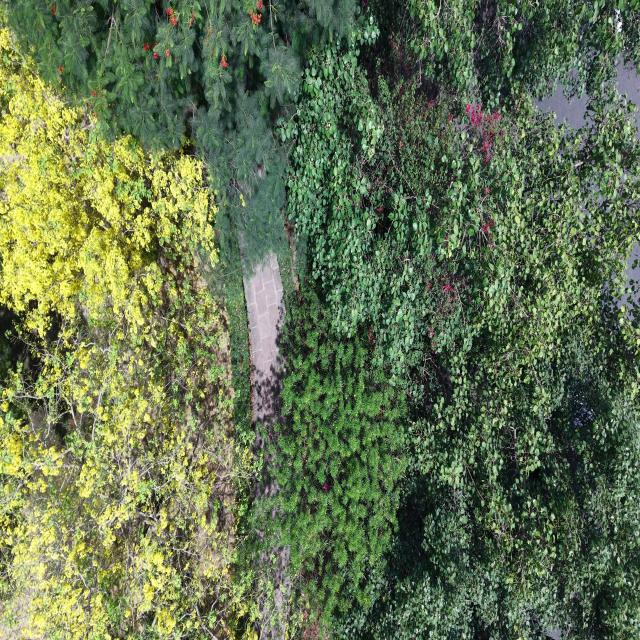DRY_AREA: (244, 254, 284, 426), (538, 85, 587, 129)
PATHWAYS: (244, 254, 284, 447), (244, 254, 284, 424)
VEGETATION_TREE: (0, 0, 639, 639), (283, 48, 639, 637), (6, 0, 639, 262), (0, 31, 252, 638), (283, 48, 637, 374), (0, 274, 252, 638), (7, 0, 361, 258), (336, 341, 639, 638), (0, 30, 216, 333), (8, 0, 359, 150), (264, 282, 407, 613), (364, 0, 639, 101)
